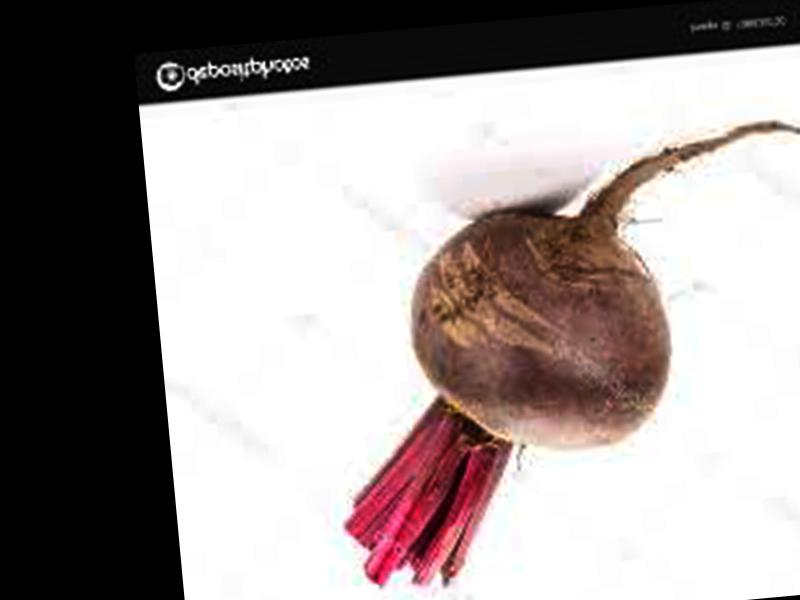Beet: (315, 120, 800, 591)
